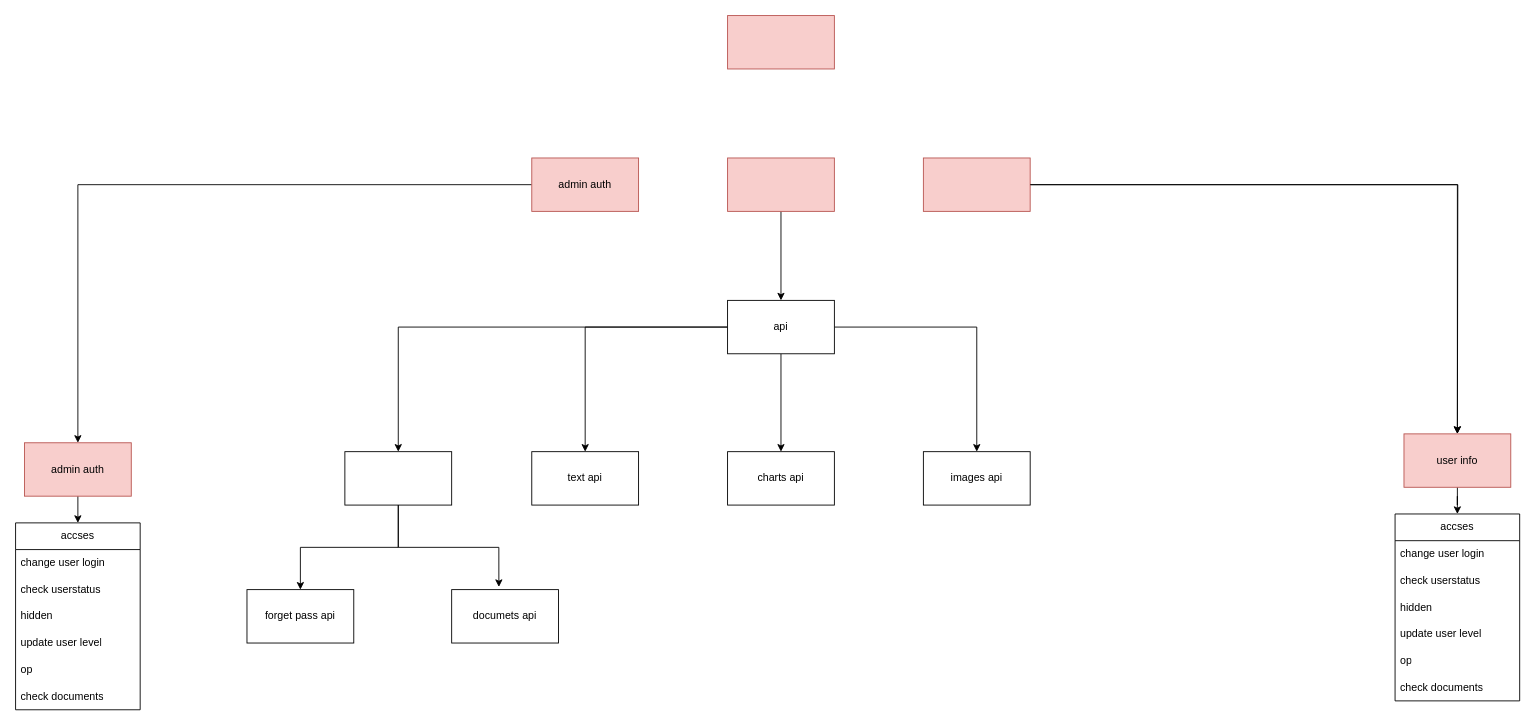
This 1535x725 diagram has some shape labels left out. The shapes that lost their labels are listed below. From the top down, each one's centre as x and y in pixels, then its label:
At pixel 780 42: "backend".
At pixel 780 184: "datas".
At pixel 976 184: "user auth".
At pixel 398 478: "requests api".
